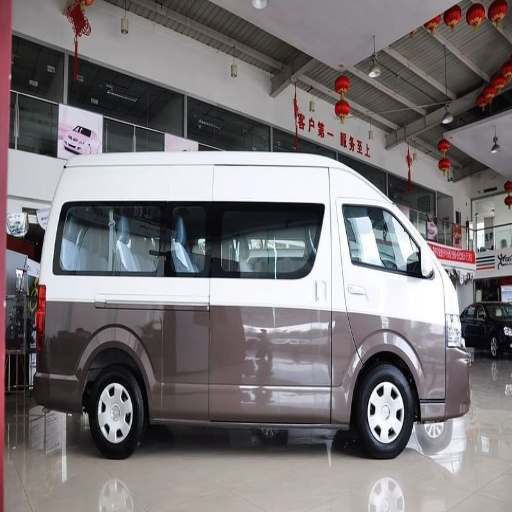back_right_door: (340, 202, 408, 279)
trunk: (41, 280, 410, 403), (413, 342, 454, 404)
